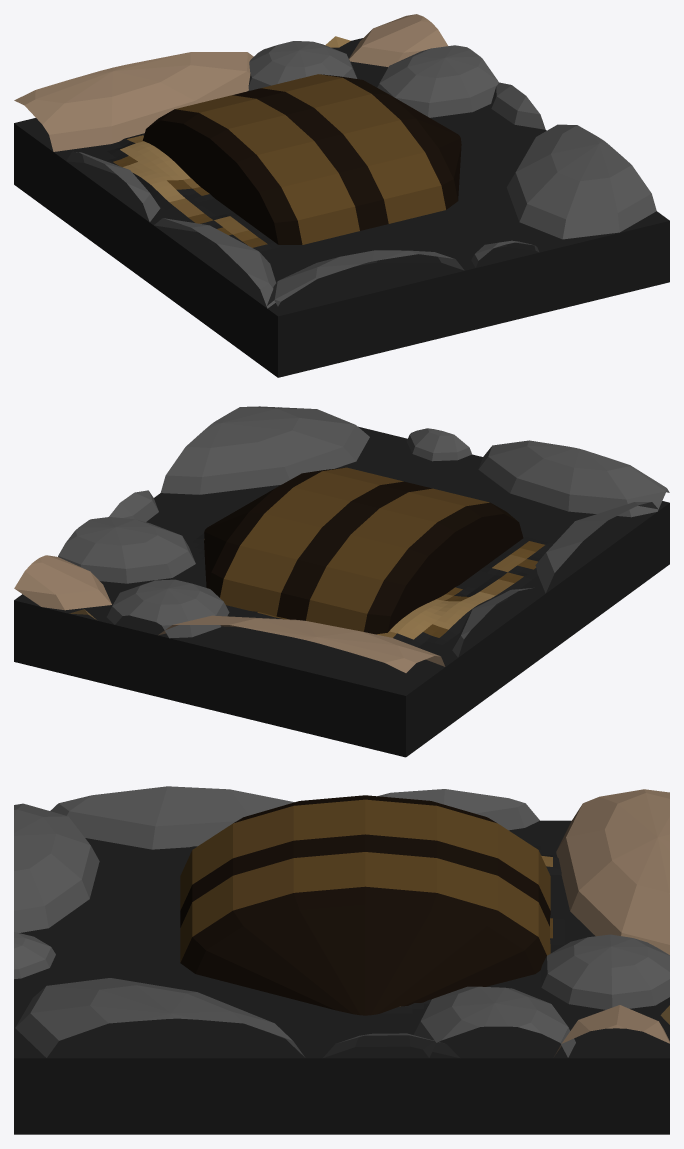
The picture shows the model from 3 angles, top to bottom: view 1: azimuth 30°, elevation 25°; view 2: azimuth 150°, elevation 25°; view 3: azimuth 270°, elevation 25°; orthographic projection. The views are drawn at different scales.
Parts seen in each view (by area): view 1: shapesz-t189; view 2: shapesz-t189; view 3: shapesz-t189.
Part boxes in pixels (x1,y1,x2,y2): shapesz-t189: (14,14,669,377); shapesz-t189: (14,406,669,757); shapesz-t189: (14,786,669,1134).
Bounding box in the file's own units: 2 × 0.64 × 2.33.
